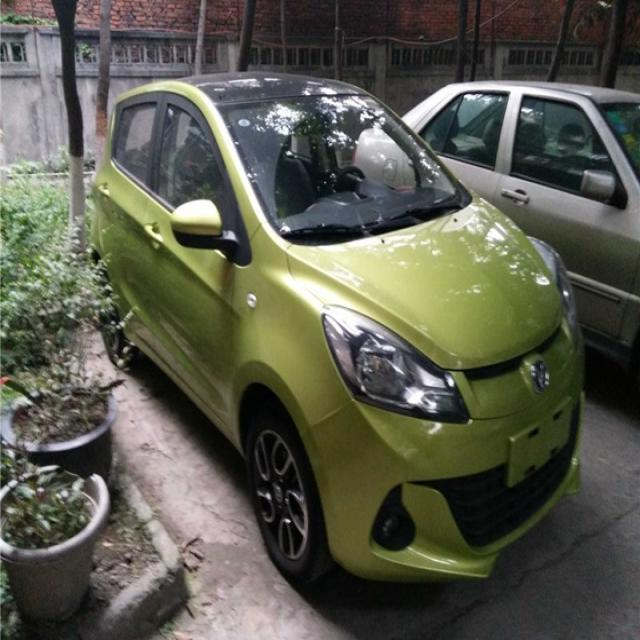front_bumper: (302, 325, 586, 583)
front_glass: (214, 93, 473, 246)
front_left_side_light: (534, 236, 576, 323)
front_right_side_door: (147, 89, 237, 438)
front_right_side_light: (321, 300, 473, 427)
front_right_side_mirror: (171, 197, 230, 253)
wheel: (251, 413, 325, 584)
